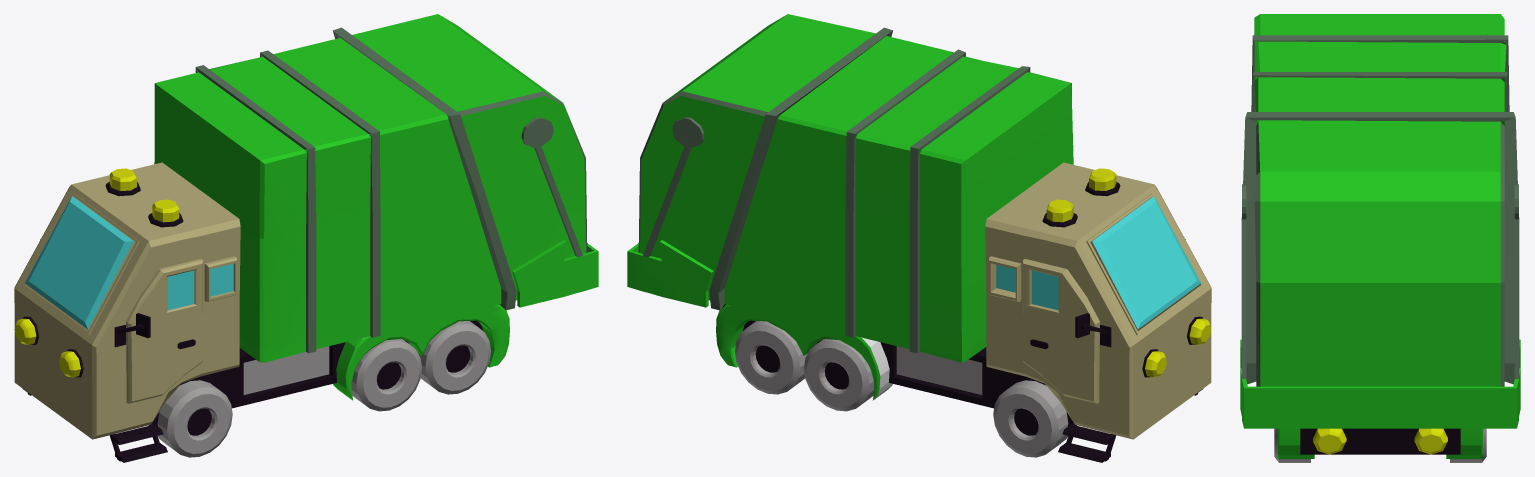
Rendered from garboTruck.fbx.
3 views of the same model, side by side, from view 1: azimuth 30°, elevation 25°; view 2: azimuth 150°, elevation 25°; view 3: azimuth 270°, elevation 25° (orthographic). The views are drawn at different scales.
Parts seen in each view (by area): view 1: Cube; view 2: Cube; view 3: Cube.
Part boxes in pixels (x1=…): Cube: x1=14, y1=14, x2=598, y2=462; Cube: x1=627, y1=14, x2=1211, y2=462; Cube: x1=1240, y1=14, x2=1520, y2=462.
Bounding box in the file's own units: 1152 × 650 × 494.
